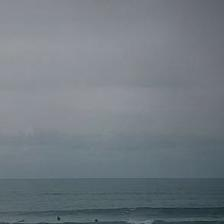surfer: (18, 220, 25, 223), (57, 216, 61, 221), (94, 219, 97, 222)
